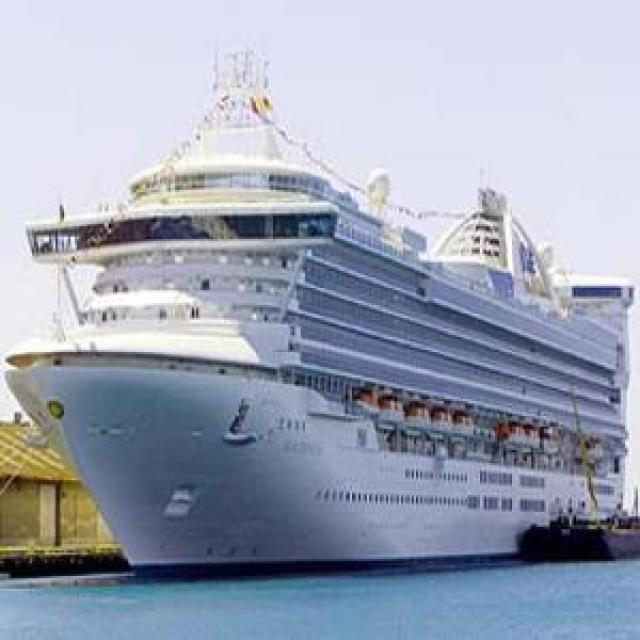fishing boat: (497, 469, 640, 574)
passenger ship: (15, 58, 631, 570)
